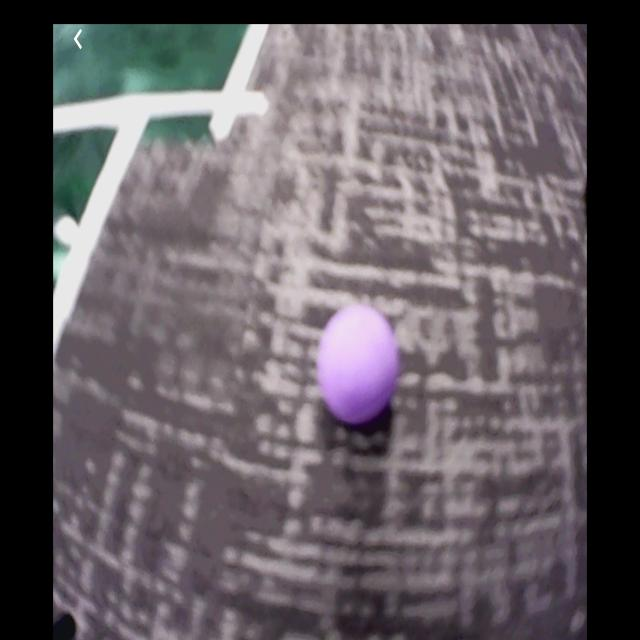ball: (321, 308, 396, 424)
